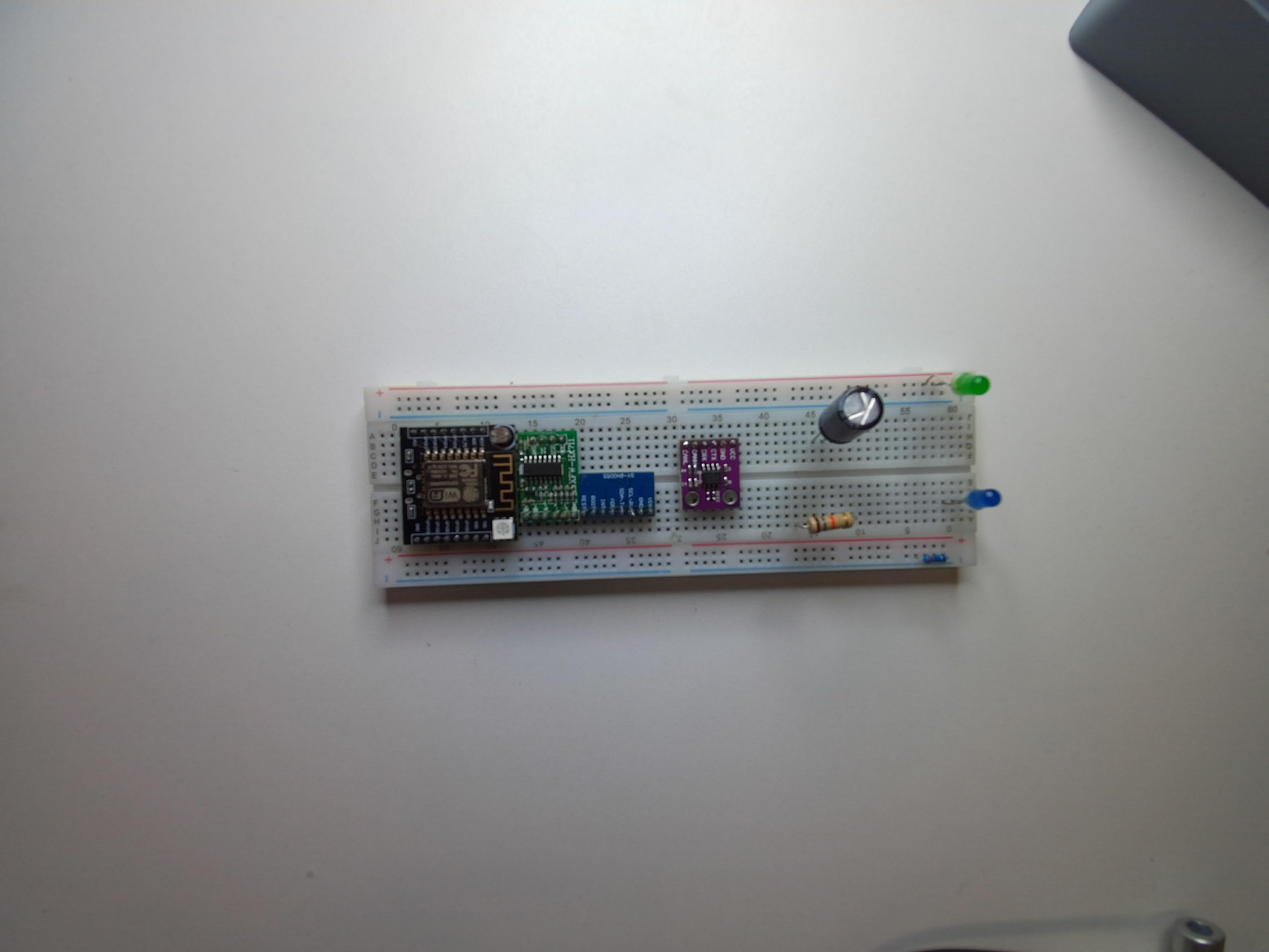base: (361, 369, 988, 593)
blue-board: (579, 470, 659, 523)
blue-led: (965, 484, 1004, 512)
capacitor: (816, 384, 884, 444)
esp: (399, 423, 518, 550)
green-board: (516, 426, 583, 527)
green-led: (952, 373, 990, 395)
purple-board: (677, 436, 743, 518)
resistor-big: (805, 513, 858, 537)
resistor-small: (919, 552, 950, 563)
